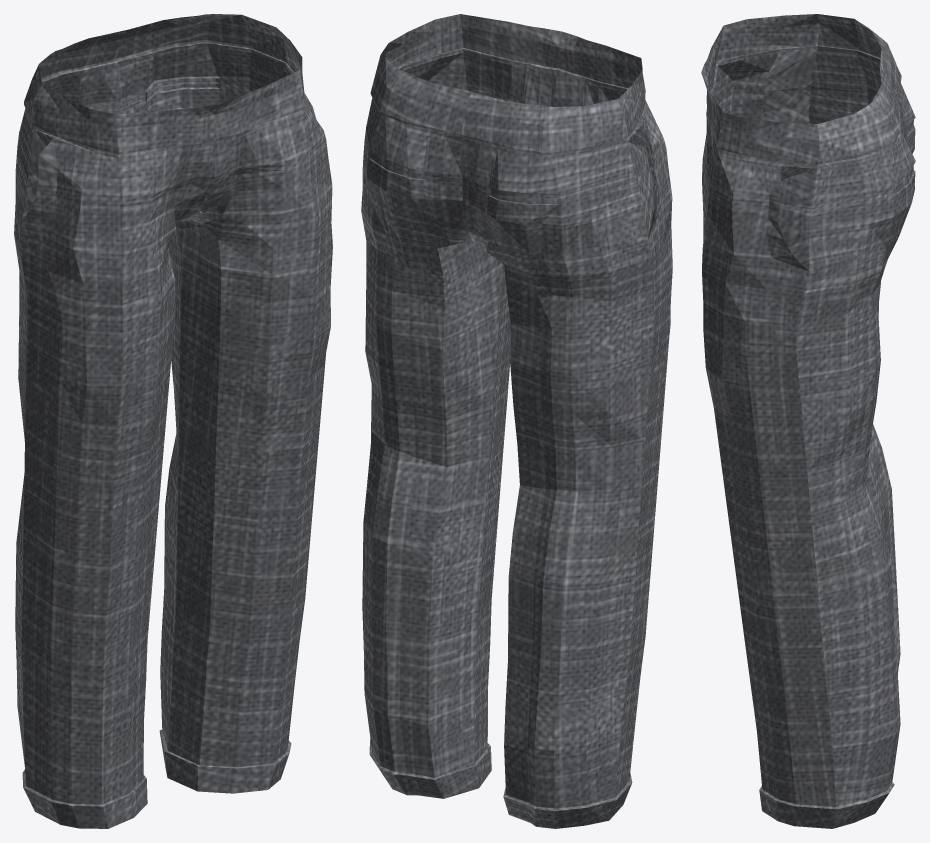
The model's file is man_pants.glb.
3 renders of one model, left to right at view 1: azimuth 30°, elevation 25°; view 2: azimuth 150°, elevation 25°; view 3: azimuth 270°, elevation 25°, orthographic. The views are drawn at different scales.
Parts seen in each view (by area): view 1: pants_03 - Default_0; view 2: pants_03 - Default_0; view 3: pants_03 - Default_0.
Part boxes in pixels (bbox=[...]): pants_03 - Default_0: bbox=[14, 14, 332, 828]; pants_03 - Default_0: bbox=[361, 14, 672, 828]; pants_03 - Default_0: bbox=[701, 14, 915, 828].
Bounding box in the file's own units: 12.7 × 30.67 × 8.42.
Materials: 1 (1 with a texture image).
